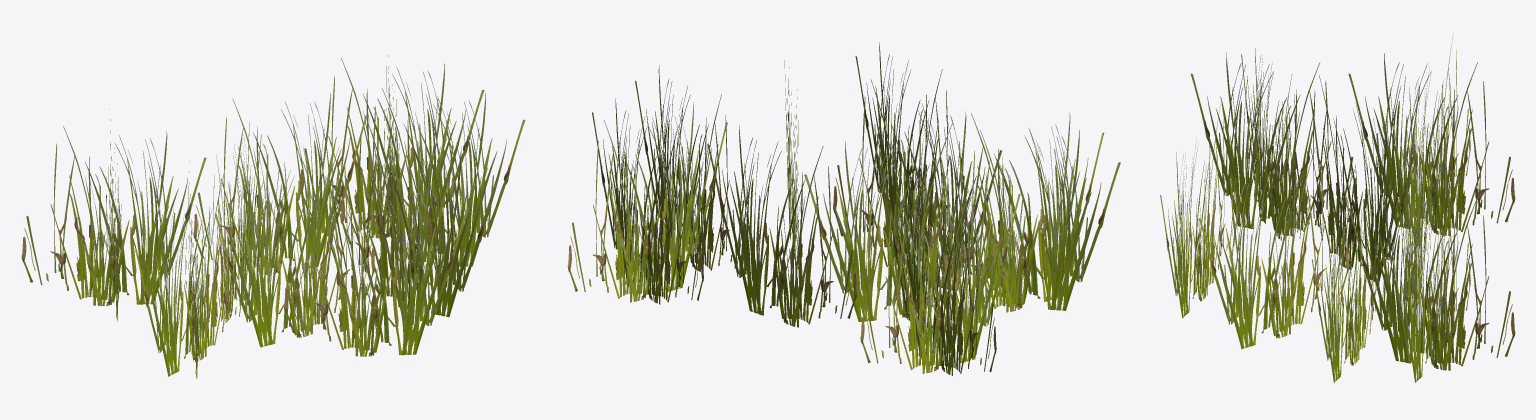
The model's file is grass.obj.
3 views of the same model, side by side, from view 1: azimuth 30°, elevation 25°; view 2: azimuth 150°, elevation 25°; view 3: azimuth 270°, elevation 25° (orthographic). The views are drawn at different scales.
Visible parts, largest first — view 1: Plane.012_Plane.021, Plane.007_Plane.016, Plane_Plane.009, Plane.004_Plane.013, Plane.011_Plane.020, Plane.003_Plane.012, Plane.010_Plane.019, Plane.006_Plane.015, Plane.005_Plane.014, Plane.002_Plane.011, Plane.008_Plane.017, Plane.009_Plane.018; view 2: Plane.004_Plane.013, Plane.005_Plane.014, Plane.008_Plane.017, Plane.006_Plane.015, Plane.009_Plane.018, Plane_Plane.009, Plane.002_Plane.011, Plane.007_Plane.016, Plane.010_Plane.019, Plane.011_Plane.020, Plane.012_Plane.021, Plane.003_Plane.012; view 3: Plane.009_Plane.018, Plane.003_Plane.012, Plane.008_Plane.017, Plane.002_Plane.011, Plane.005_Plane.014, Plane.012_Plane.021, Plane.011_Plane.020, Plane.010_Plane.019, Plane.007_Plane.016, Plane.006_Plane.015, Plane.004_Plane.013.
Boxes of the visible parts, x1,y1,x2,y2 form: Plane.012_Plane.021: [283, 176, 468, 356]; Plane.007_Plane.016: [21, 126, 206, 306]; Plane_Plane.009: [214, 147, 375, 347]; Plane.004_Plane.013: [193, 92, 367, 274]; Plane.011_Plane.020: [340, 88, 525, 267]; Plane.003_Plane.012: [329, 120, 497, 317]; Plane.010_Plane.019: [300, 58, 484, 238]; Plane.006_Plane.015: [135, 165, 251, 376]; Plane.005_Plane.014: [203, 121, 261, 322]; Plane.002_Plane.011: [185, 161, 201, 378]; Plane.008_Plane.017: [106, 109, 122, 321]; Plane.009_Plane.018: [384, 55, 399, 232]; Plane.004_Plane.013: [707, 125, 856, 327]; Plane.005_Plane.014: [804, 123, 994, 321]; Plane.008_Plane.017: [860, 173, 1020, 373]; Plane.006_Plane.015: [928, 113, 1120, 310]; Plane.009_Plane.018: [567, 102, 727, 302]; Plane_Plane.009: [833, 79, 1001, 290]; Plane.002_Plane.011: [944, 112, 1104, 312]; Plane.007_Plane.016: [884, 169, 996, 375]; Plane.010_Plane.019: [592, 98, 703, 304]; Plane.011_Plane.020: [635, 65, 746, 271]; Plane.012_Plane.021: [855, 42, 967, 241]; Plane.003_Plane.012: [784, 60, 801, 258]; Plane.009_Plane.018: [1348, 188, 1515, 370]; Plane.003_Plane.012: [1198, 147, 1349, 349]; Plane.008_Plane.017: [1348, 53, 1515, 236]; Plane.002_Plane.011: [1190, 52, 1357, 236]; Plane.005_Plane.014: [1291, 75, 1413, 283]; Plane.012_Plane.021: [1160, 104, 1237, 318]; Plane.011_Plane.020: [1311, 168, 1389, 382]; Plane.010_Plane.019: [1393, 169, 1470, 382]; Plane.007_Plane.016: [1393, 34, 1470, 246]; Plane.006_Plane.015: [1241, 48, 1306, 240]; Plane.004_Plane.013: [1400, 117, 1431, 325].
Bounding box in the file's own units: 0.7564 × 0.3 × 0.5508.
1 material, 1 textured.
